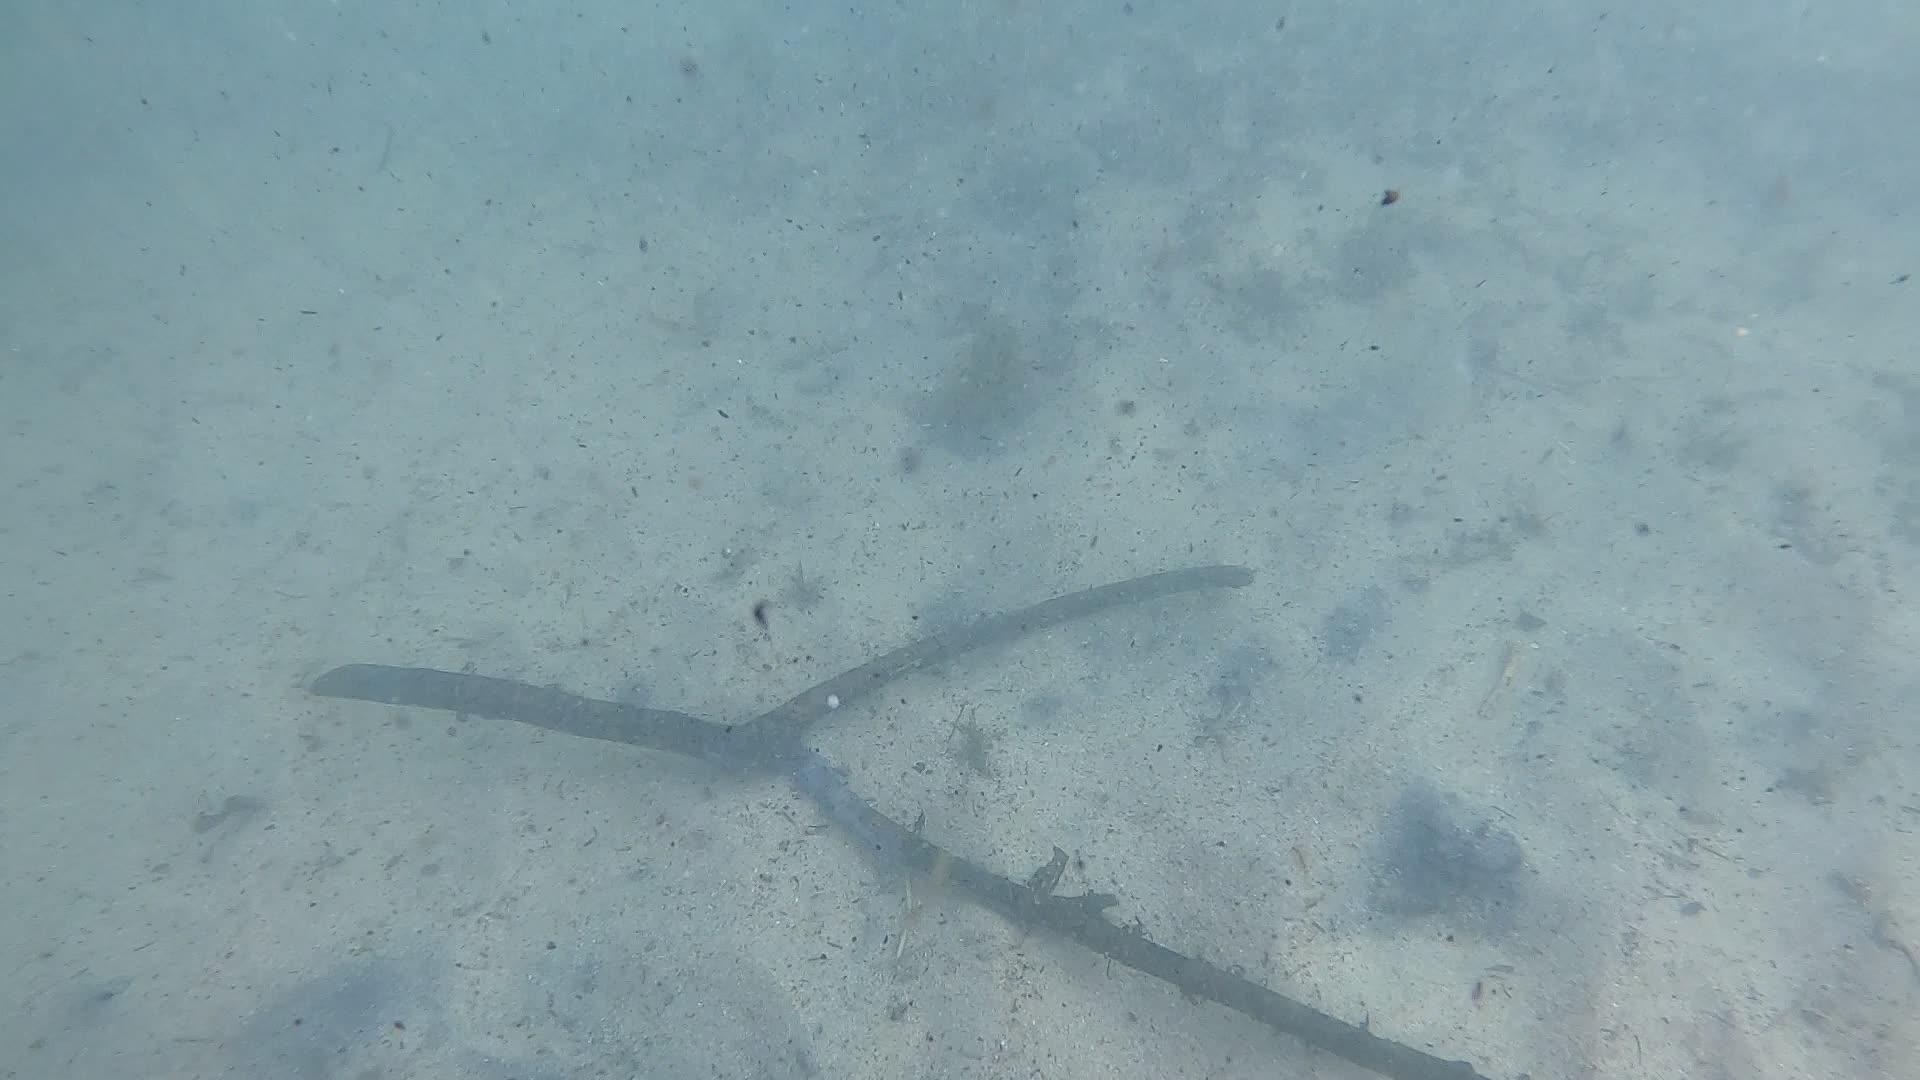wood: (311, 560, 1484, 1080)
